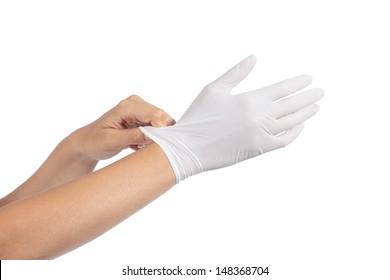gloves: (137, 54, 325, 185)
